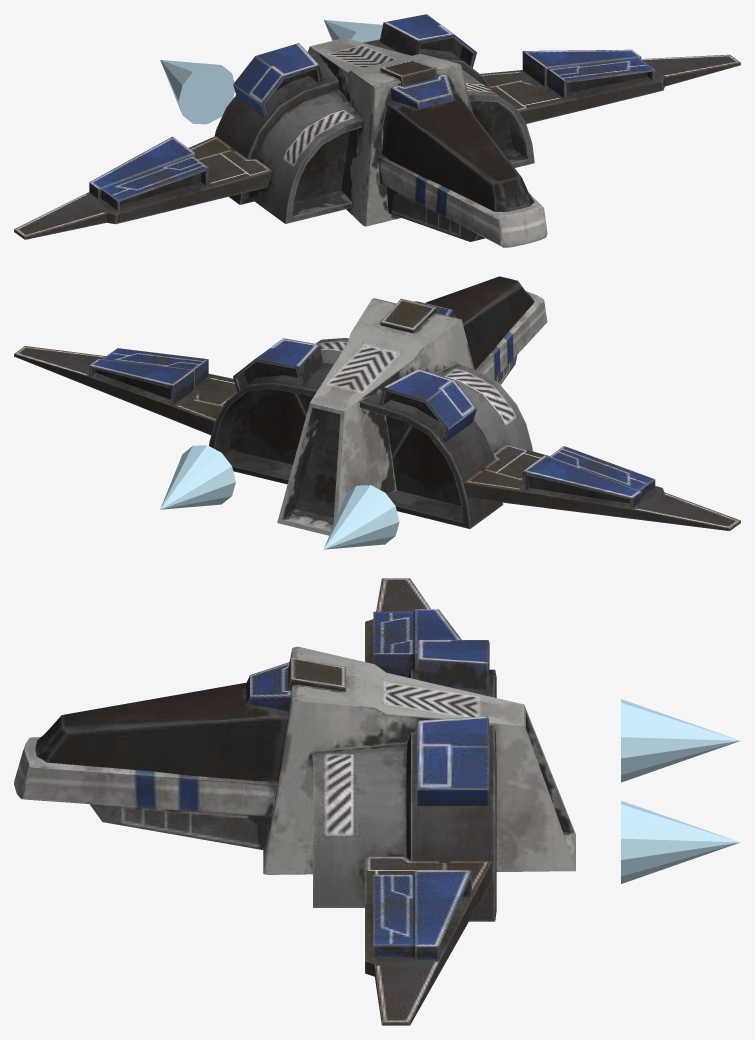
The model's file is caza.glb.
The picture shows the model from 3 angles, top to bottom: view 1: azimuth 30°, elevation 25°; view 2: azimuth 150°, elevation 25°; view 3: azimuth 270°, elevation 25°; orthographic projection. The views are drawn at different scales.
Visible parts, largest first — view 1: Bob, Exhaust1, Exhaust0; view 2: Bob, Exhaust0, Exhaust1; view 3: Bob, Exhaust0, Exhaust1.
Part boxes in pixels (x1,y1,x2,y2): Bob: [14, 14, 740, 247]; Exhaust1: [160, 60, 234, 124]; Exhaust0: [324, 20, 382, 42]; Bob: [14, 276, 740, 535]; Exhaust0: [160, 445, 235, 509]; Exhaust1: [324, 485, 399, 549]; Bob: [14, 578, 575, 1025]; Exhaust0: [621, 800, 740, 883]; Exhaust1: [621, 699, 740, 782].
Size of the model in its own units: 10.5 by 2.04 by 7.26.
2 materials, 1 textured.
